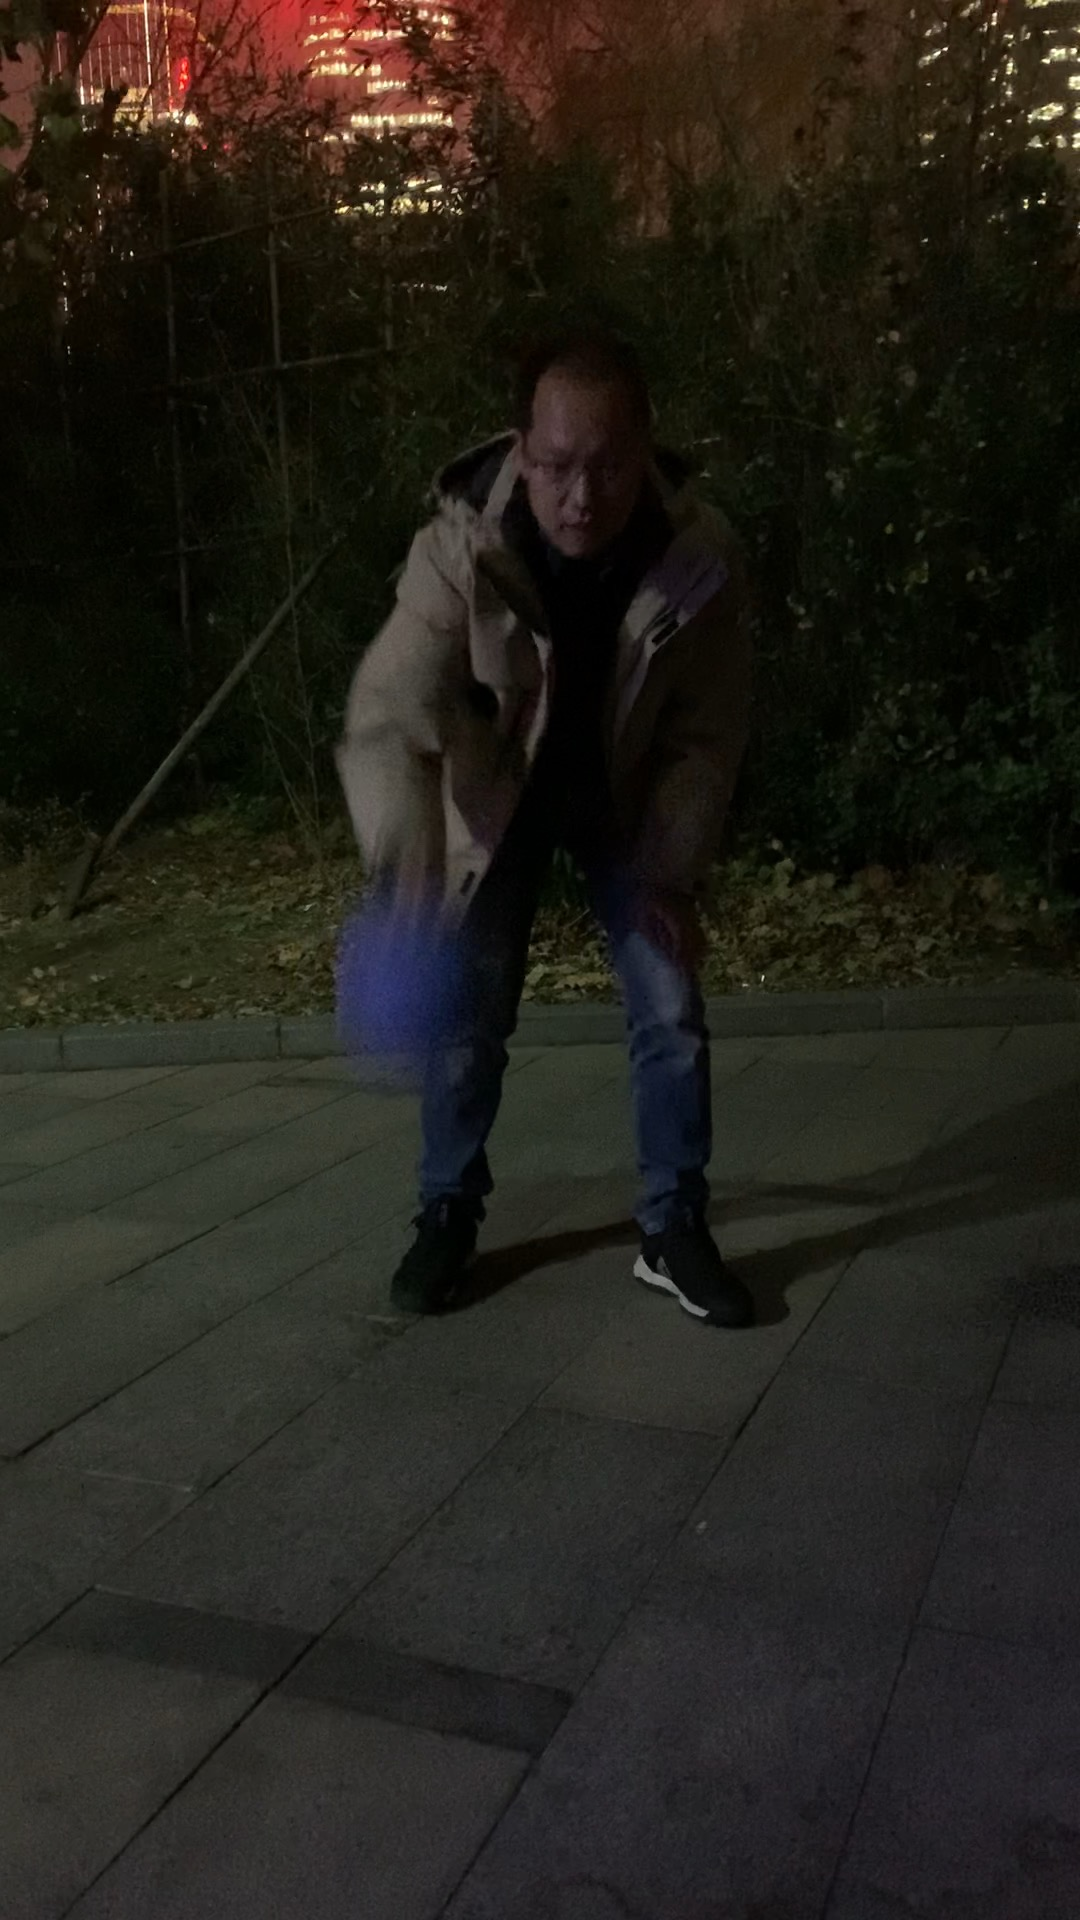ball: (342, 905, 495, 1069)
